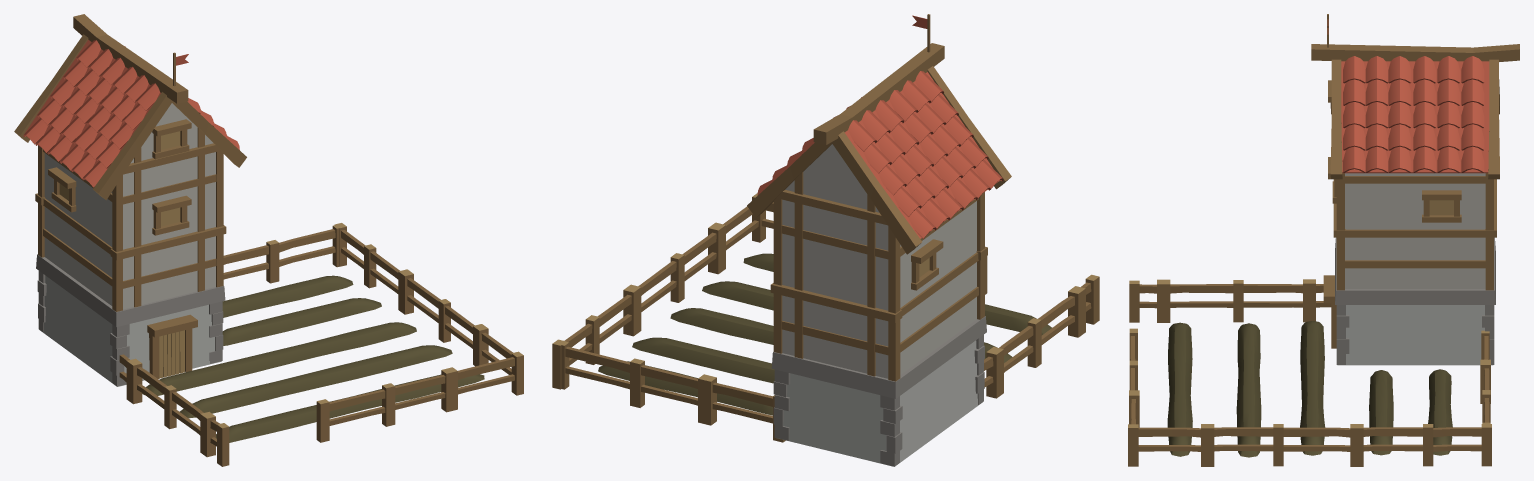
The model's file is quaternius-ultimate-fantasy-rts-farm-secondage-level-3.glb.
The picture shows the model from 3 angles, left to right: view 1: azimuth 30°, elevation 25°; view 2: azimuth 150°, elevation 25°; view 3: azimuth 270°, elevation 25°; orthographic projection. The views are drawn at different scales.
Parts seen in each view (by area): view 1: Farm_SecondAge_Level3; view 2: Farm_SecondAge_Level3; view 3: Farm_SecondAge_Level3.
Part boxes in pixels (x1,y1,x2,y2): Farm_SecondAge_Level3: (14, 14, 523, 466); Farm_SecondAge_Level3: (552, 14, 1099, 466); Farm_SecondAge_Level3: (1128, 14, 1519, 466).
Bounding box in the file's own units: 1.91 × 1.84 × 1.98.
1 material, 1 textured.
